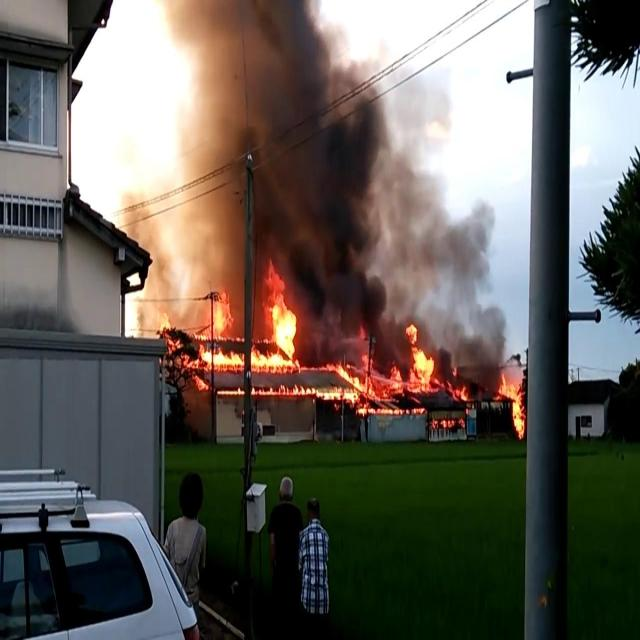Fire: (336, 324, 476, 404), (202, 286, 302, 374), (156, 321, 209, 390), (218, 382, 352, 400), (499, 377, 525, 435), (354, 404, 426, 415), (304, 358, 336, 372), (433, 418, 469, 428)
